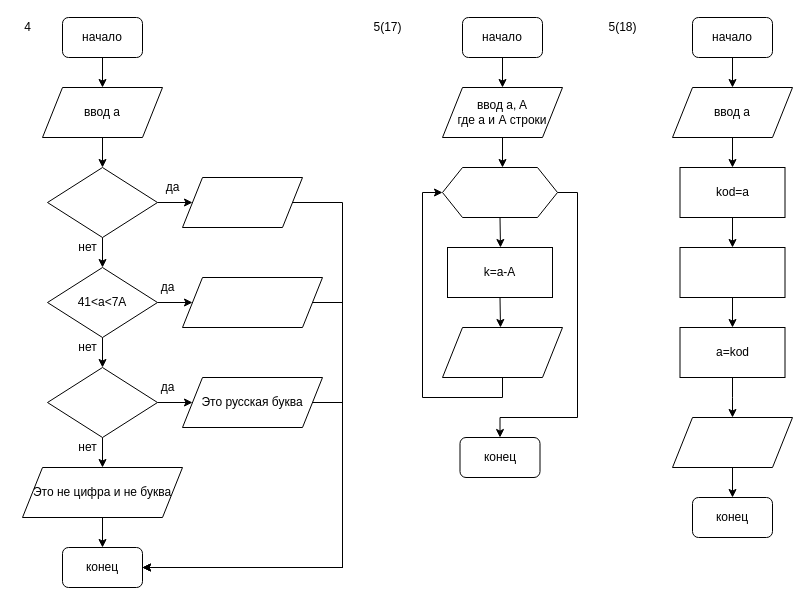
This 810x605 diagram has some shape labels left out. Each missing label, with the centre of its shape:
"0хС0 <a<0х FF" belongs at point 102,402.
"30<a<39" belongs at point 102,202.
"i=0;5" belongs at point 500,192.
"kod=kod-20" belongs at point 732,272.
"вывод k" belongs at point 502,352.
"вывод а" belongs at point 732,442.
"Это латинская буква" belongs at point 252,302.
"Это цифра" belongs at point 242,202.
